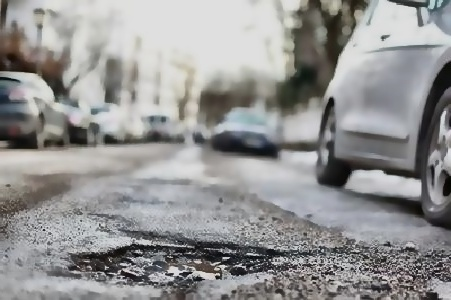pothole: (68, 226, 281, 288)
